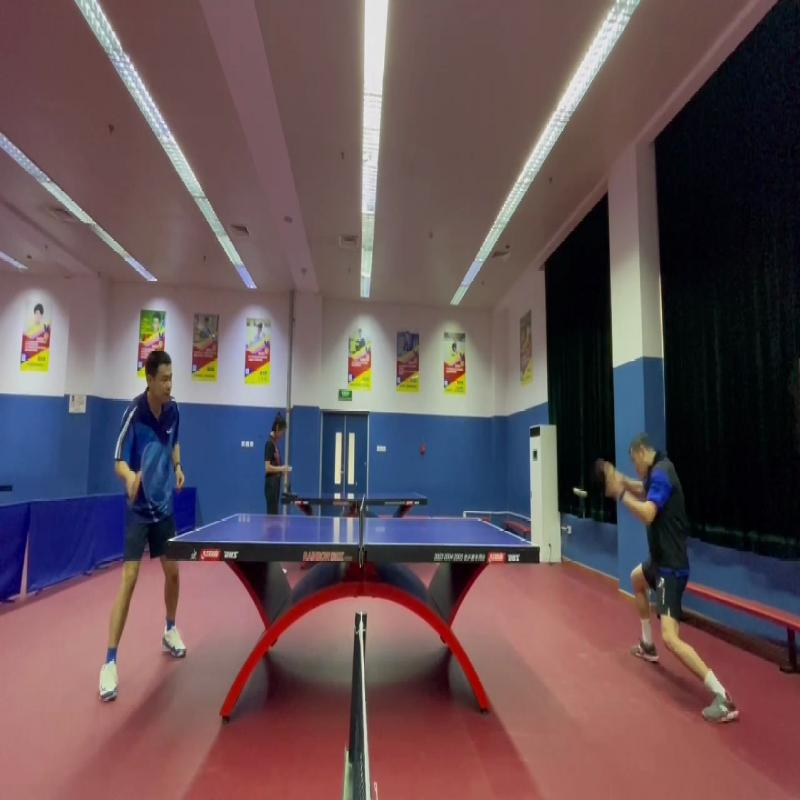bats: (125, 466, 148, 511)
